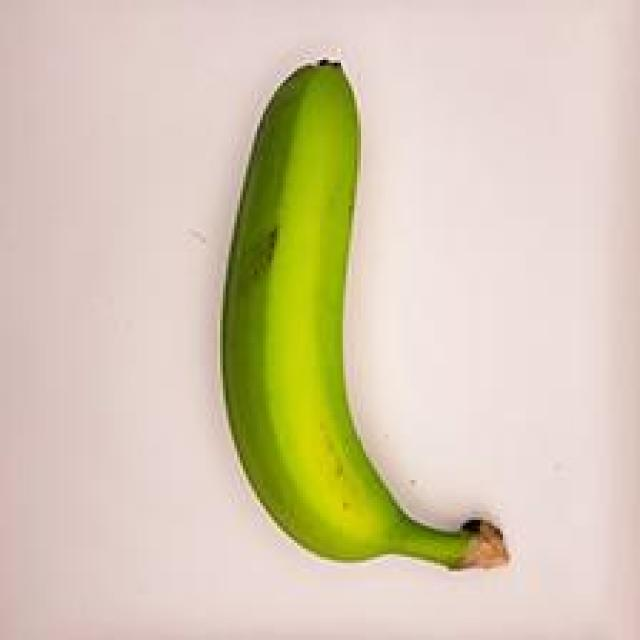Unripe: (195, 36, 534, 602)
